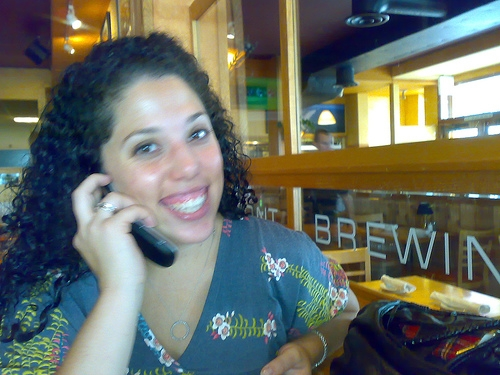phone: (87, 180, 175, 261)
talk: (65, 97, 224, 295)
